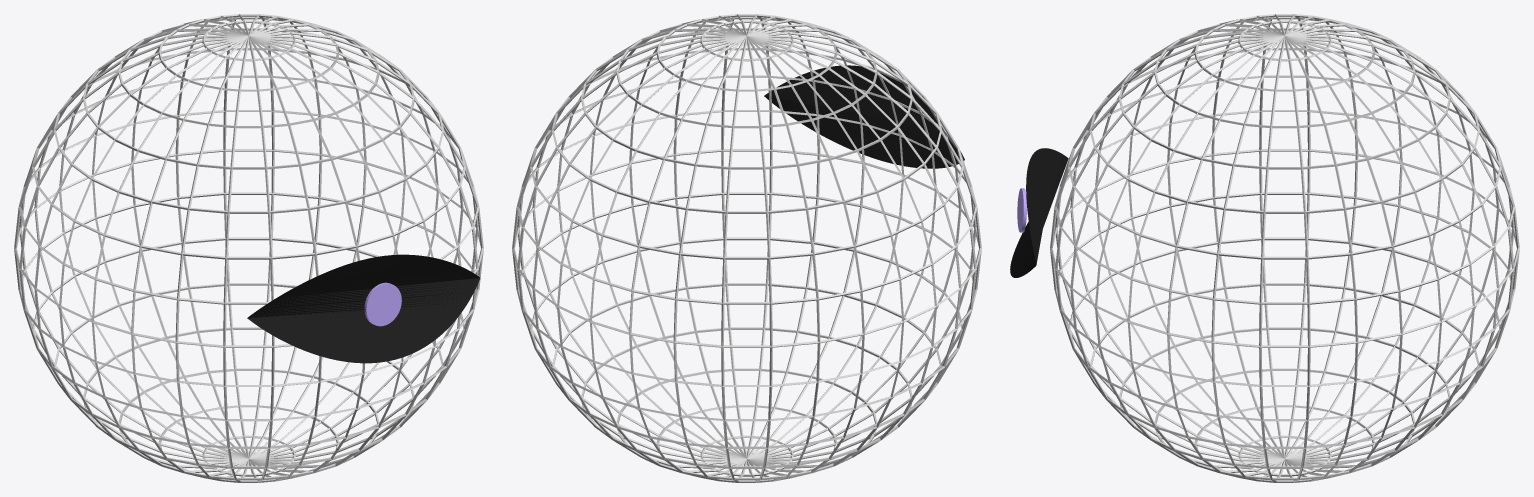
File: globe-wireframe1.glb
3 views of the same model, side by side, from view 1: azimuth 30°, elevation 25°; view 2: azimuth 150°, elevation 25°; view 3: azimuth 270°, elevation 25° (orthographic).
Visible parts, largest first — view 1: globe, eye-border, cornea; view 2: globe, eye-border; view 3: globe, eye-border.
Part boxes in pixels (x1,y1,x2,y2): globe: (14,14,483,482); eye-border: (247,254,480,363); cornea: (364,282,401,326); globe: (512,14,981,482); eye-border: (764,65,964,168); globe: (1050,14,1519,482); eye-border: (1010,148,1068,277).
Bounding box in the file's own units: 2 × 2.01 × 2.18.
